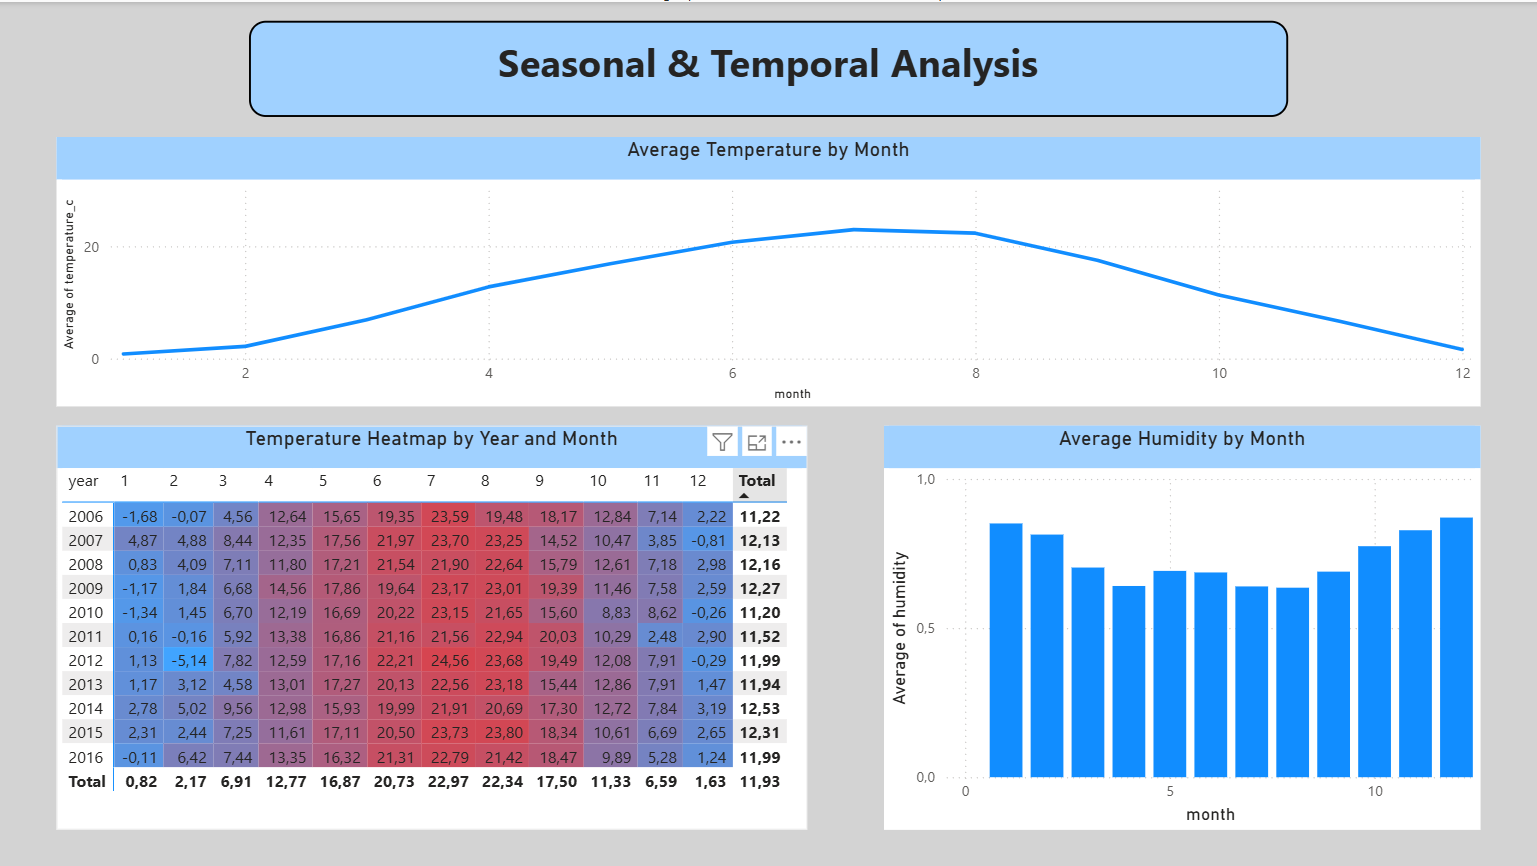

The page's visual inventory and layout, read from the dashboard file:
{"tool":"powerbi","page":{"name":"Seasonal Analysis","canvas":[1280,720],"ordinal":1},"visuals":[{"type":"lineChart","title":"Average Temperature by Month","fields":{"Category":["weather db weather_data.month"],"Y":["Avg(weather db weather_data.temperature_c)"]},"box":[48,112,1184,224],"z":0},{"type":"clusteredColumnChart","title":"Average Humidity by Month","fields":{"Category":["weather db weather_data.month"],"Y":["Avg(weather db weather_data.humidity)"]},"box":[736,352,496,336],"z":1000},{"type":"pivotTable","title":"Temperature Heatmap by Year and Month","fields":{"Columns":["weather db weather_data.month"],"Rows":["weather db weather_data.year"],"Values":["Avg(weather db weather_data.temperature_c)"]},"box":[48,352,624,336],"z":2000},{"type":"textbox","box":[208,16,864,80],"z":2001}]}

Visuals, with their boxes in screenshot pixels (x1, y1, x2, y2), scaled from the page's 1280x720 canvas onto the 1537x866 screenshot:
"Average Temperature by Month" lineChart: (58, 135, 1479, 404)
"Average Humidity by Month" clusteredColumnChart: (884, 423, 1479, 828)
"Temperature Heatmap by Year and Month" pivotTable: (58, 423, 807, 828)
textbox: (250, 19, 1287, 115)
